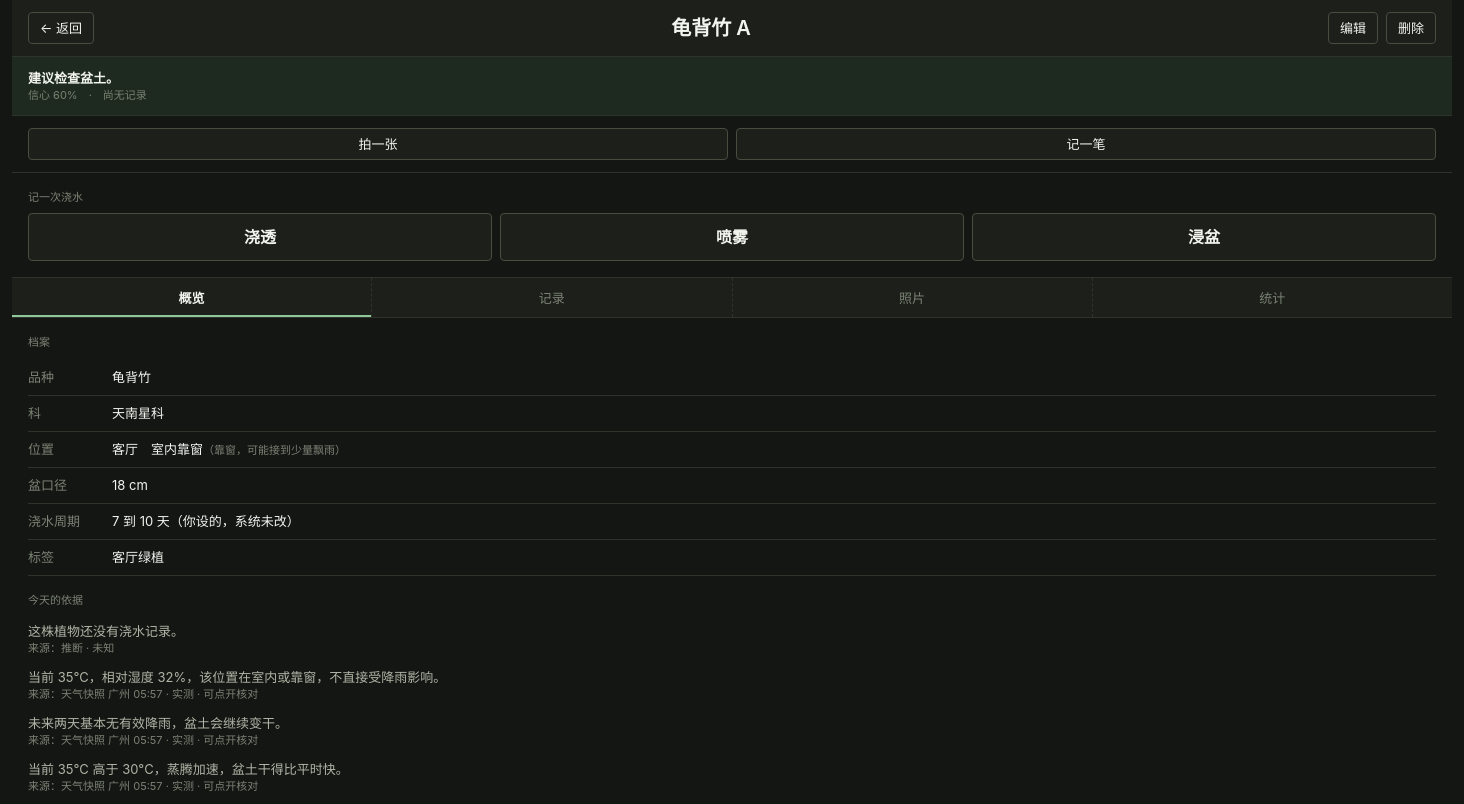
Test: D-06 W 方案：三档快选，点档即提交 › 操作后给出回执
Click the button "浸盆": click(1204, 237) [972,213,1436,261]
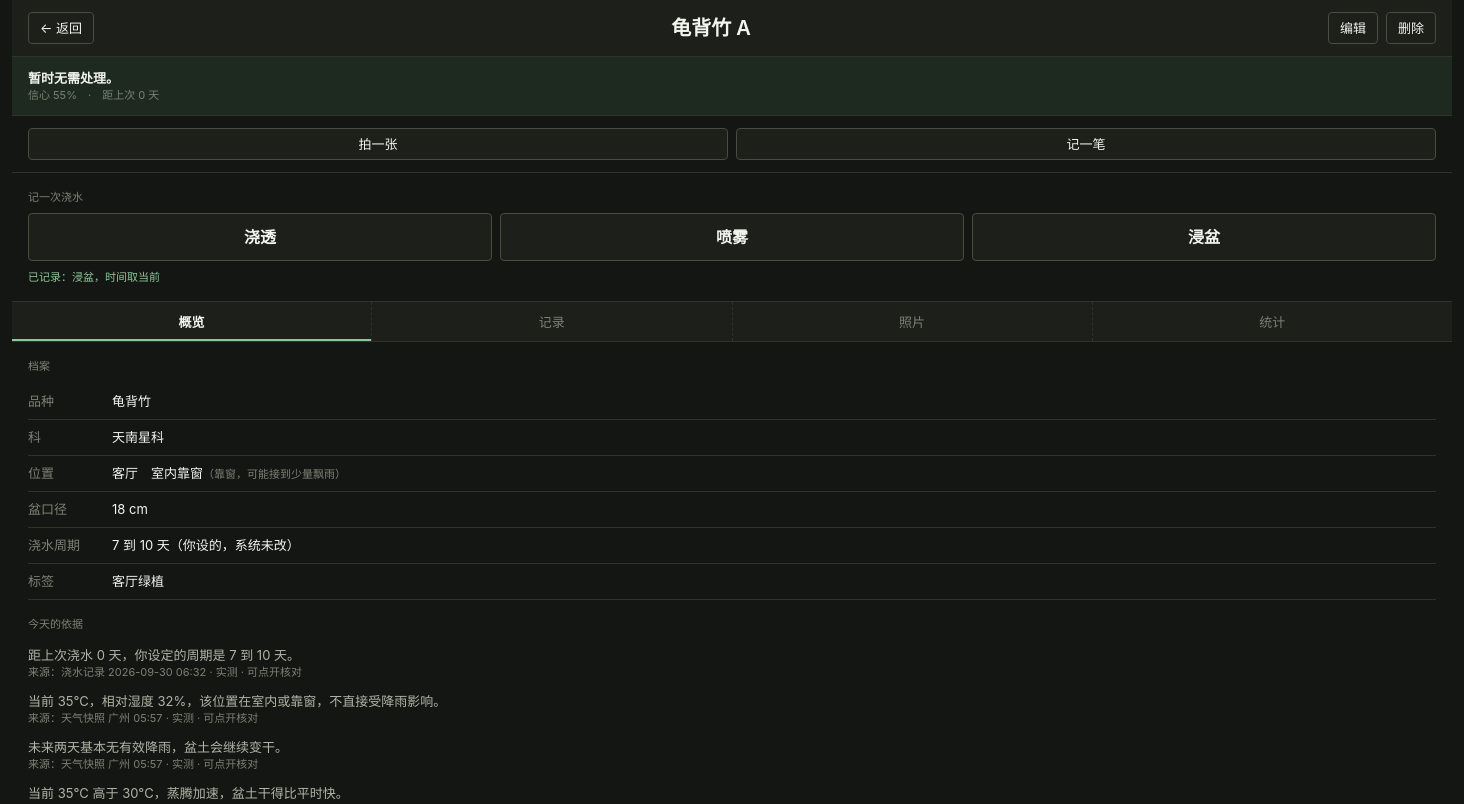
Check: the text "已记录：浸盆，时间取当前" is shown, box [28,270,160,284]
